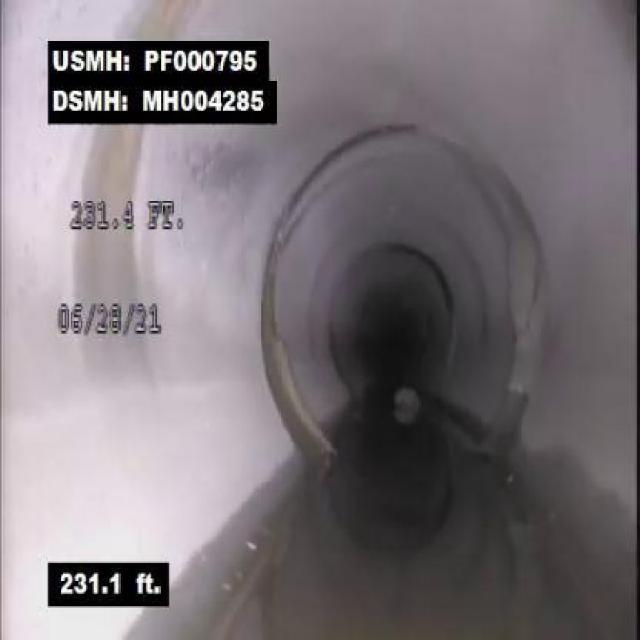Joint offset: (492, 174, 583, 481), (243, 203, 331, 499)
